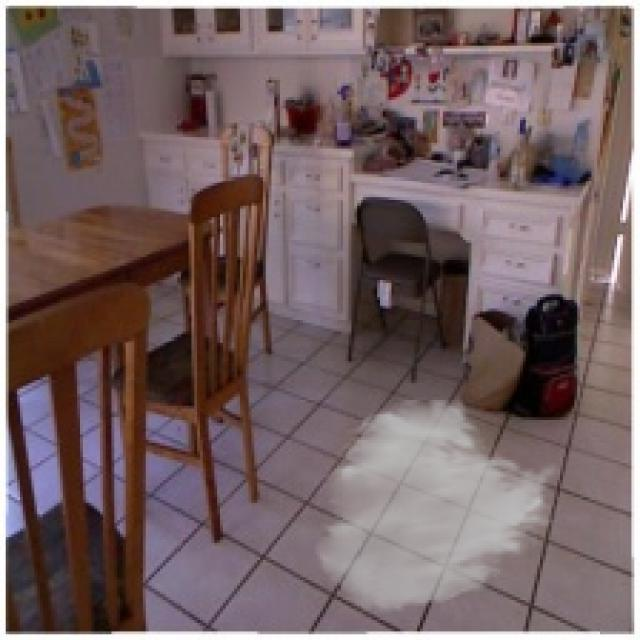smoke: (311, 394, 563, 614)
